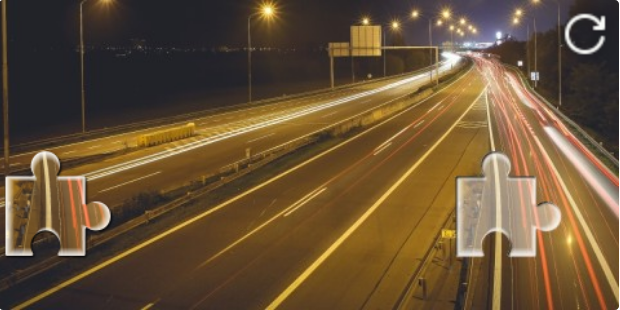target: (457, 153, 562, 257)
